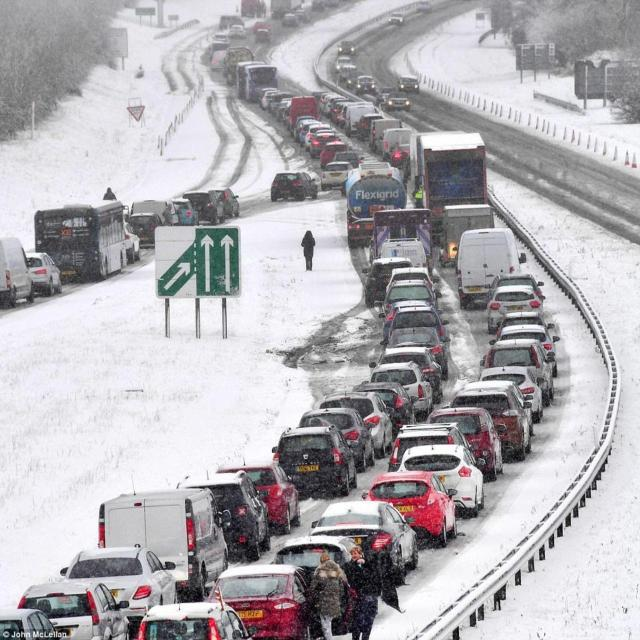Car: (178, 472, 272, 563), (207, 567, 308, 640), (364, 472, 457, 544), (274, 423, 356, 499), (14, 580, 108, 638), (276, 536, 362, 596), (475, 364, 543, 426), (488, 337, 553, 398), (486, 285, 546, 333), (377, 237, 429, 276), (270, 170, 318, 203), (308, 133, 337, 159), (323, 161, 354, 185), (320, 144, 351, 168), (172, 198, 198, 226), (347, 215, 370, 246), (214, 188, 240, 215)
Truck: (33, 200, 126, 287)
Van: (99, 487, 226, 591), (454, 229, 524, 305)
